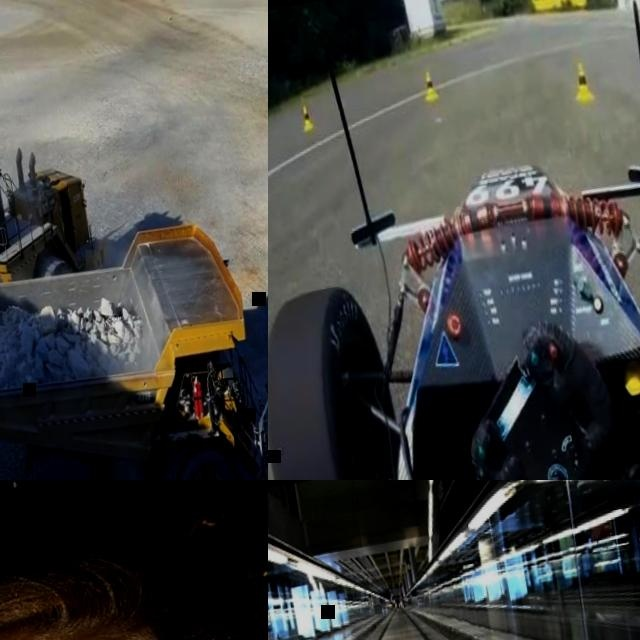NO-Hardhat: (0, 530, 268, 640)
Person: (0, 518, 268, 640)
Safety Cone: (570, 62, 595, 104), (421, 72, 439, 103), (300, 103, 314, 131)
machinery: (0, 206, 268, 480), (0, 130, 131, 480)
vehicle: (268, 0, 640, 480)
